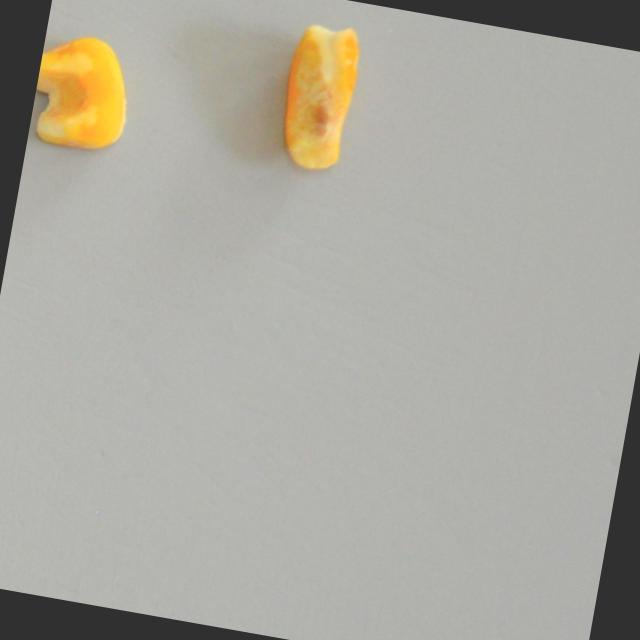dañado: (273, 18, 364, 173)
pelicula: (27, 27, 139, 157)
